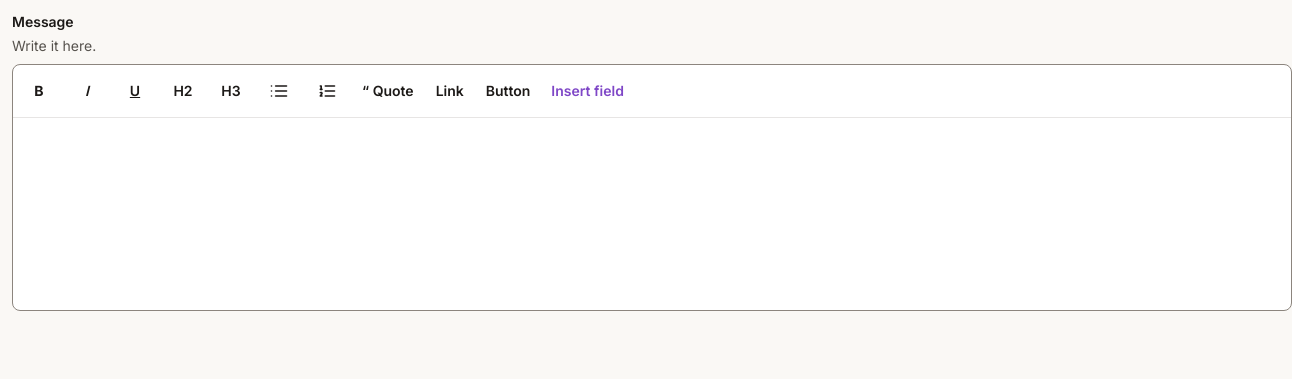
Test case: RichTextEditor › lists every merge field for an event's people
Click the button "Insert field" at [588, 91], box [543,69,632,113]
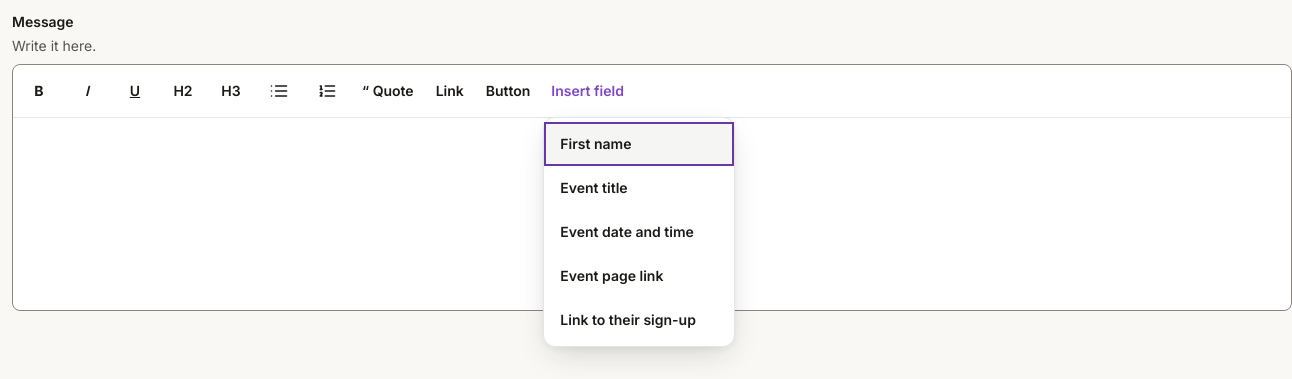
Check: the menu items read "First name", "Event title", "Event date and time", "Event page link", "Link to their sign-up", in this order, box [544,122,734,166]; [544,166,734,210]; [544,210,734,254]; [544,254,734,298]; [544,298,734,342]
